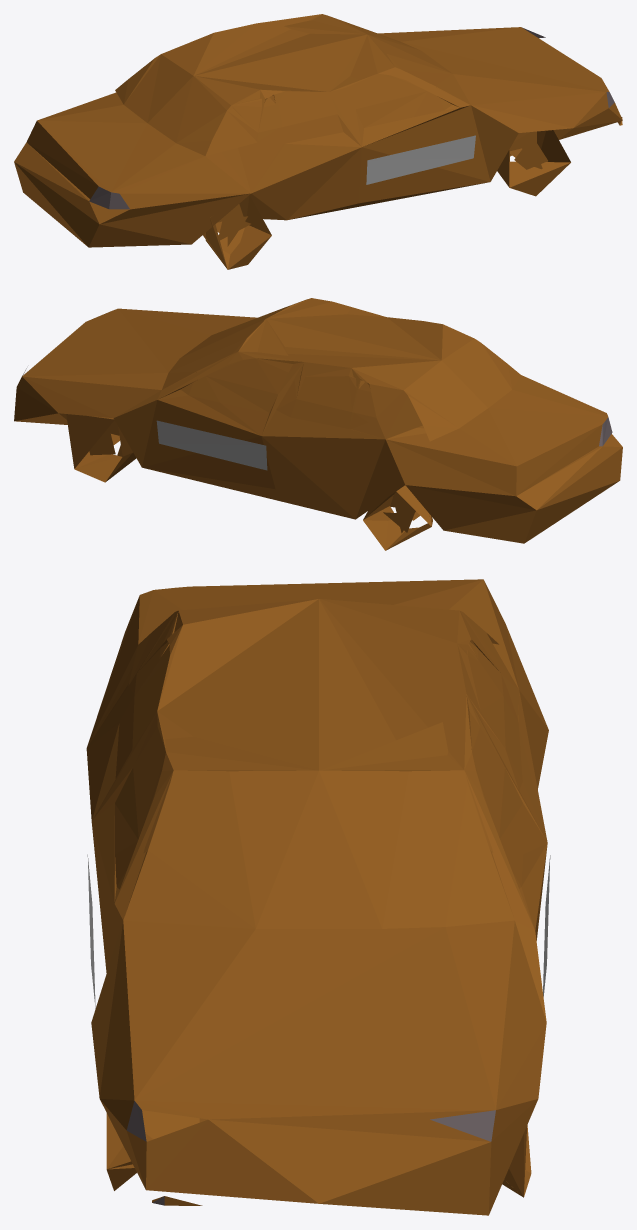
File: civ-taxi.lod2.glb
3 renders of one model, top to bottom at view 1: azimuth 30°, elevation 25°; view 2: azimuth 150°, elevation 25°; view 3: azimuth 270°, elevation 25°, orthographic. The views are drawn at different scales.
Visible parts, largest first — view 1: taxi_taxi_0; view 2: taxi_taxi_0; view 3: taxi_taxi_0.
Part boxes in pixels (x1,y1,x2,y2): taxi_taxi_0: [14, 14, 622, 269]; taxi_taxi_0: [14, 298, 622, 550]; taxi_taxi_0: [86, 579, 550, 1215].
Size of the model in its own units: 5.03 by 1.41 by 1.86.
